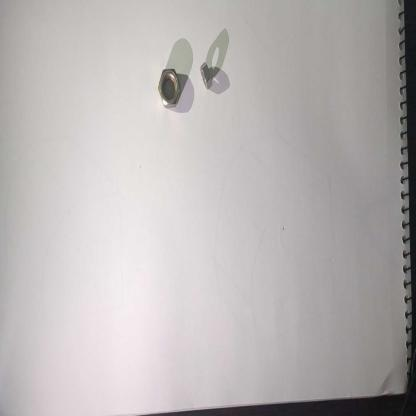NUTS: (152, 58, 182, 115), (198, 53, 223, 102)
